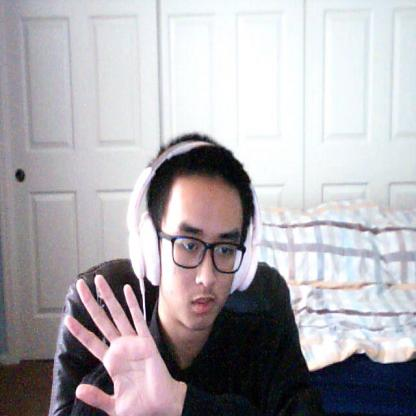palm: (62, 272, 168, 416)
